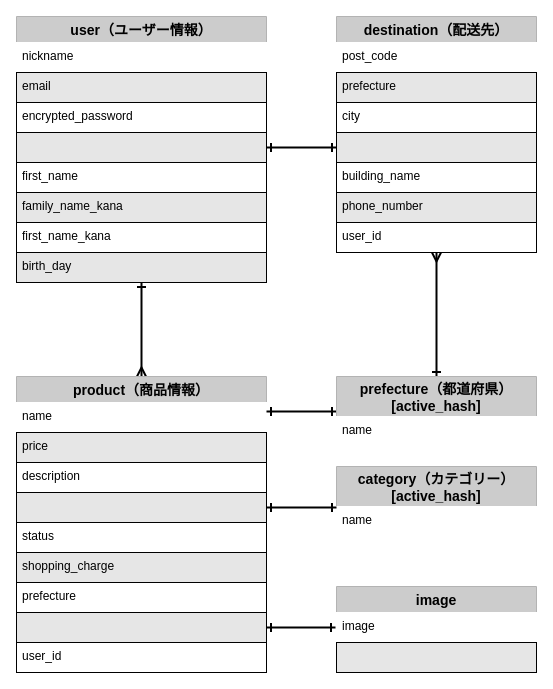
The diagram is 553 pixels wide and 689 high, and some of its shapes have lost their labels. Each missing label, with the centre of its shape:
"adress" goes at (x=436, y=147).
"category" goes at (x=141, y=507).
"family_name" goes at (x=141, y=147).
"product_id" goes at (x=436, y=657).
"shipping_days" goes at (x=141, y=627).
